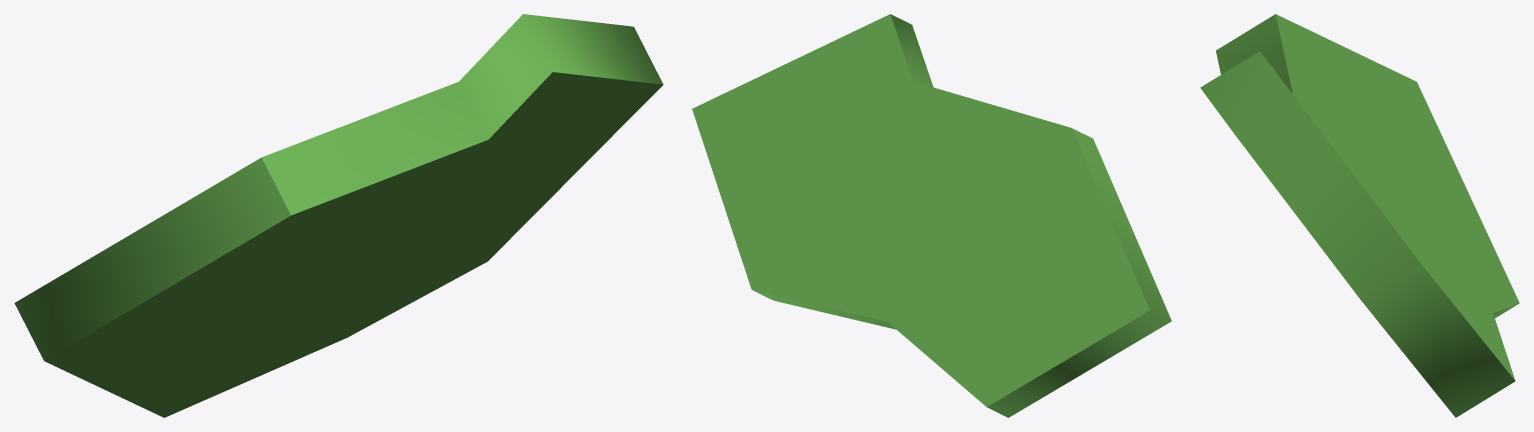
File: australia.fbx
3 renders of one model, left to right at view 1: azimuth 30°, elevation 25°; view 2: azimuth 150°, elevation 25°; view 3: azimuth 270°, elevation 25°, orthographic. The views are drawn at different scales.
Parts seen in each view (by area): view 1: pCube6; view 2: pCube6; view 3: pCube6.
Part boxes in pixels (x1,y1,x2,y2): pCube6: (14, 14, 663, 417); pCube6: (692, 14, 1171, 417); pCube6: (1200, 14, 1519, 417).
Size of the model in its own units: 11.62 by 7.39 by 5.14.
